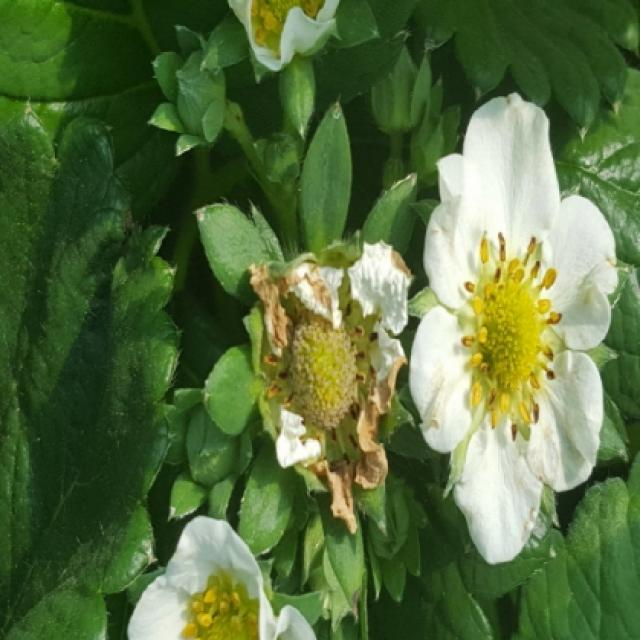Blossom Blight: (260, 282, 387, 470), (455, 226, 564, 441)
